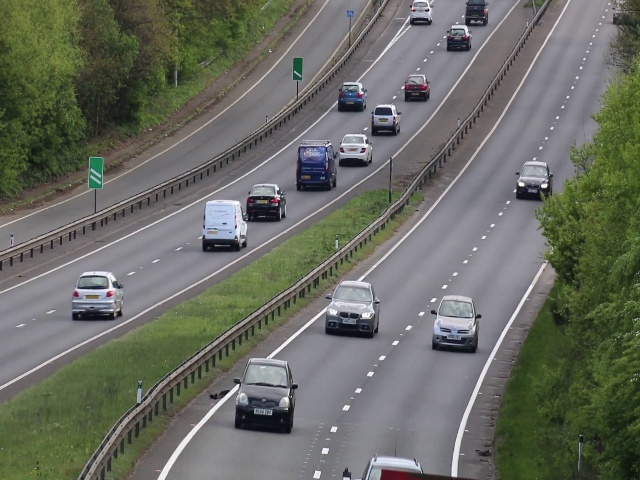car: (232, 355, 298, 432), (324, 278, 381, 338), (430, 291, 478, 354), (70, 271, 124, 320), (203, 198, 248, 252), (296, 141, 341, 190), (515, 159, 553, 201), (246, 183, 287, 219), (339, 132, 374, 166), (370, 102, 401, 135), (339, 80, 369, 112), (445, 23, 472, 52), (403, 72, 429, 102), (464, 1, 489, 24), (409, 1, 433, 24)
